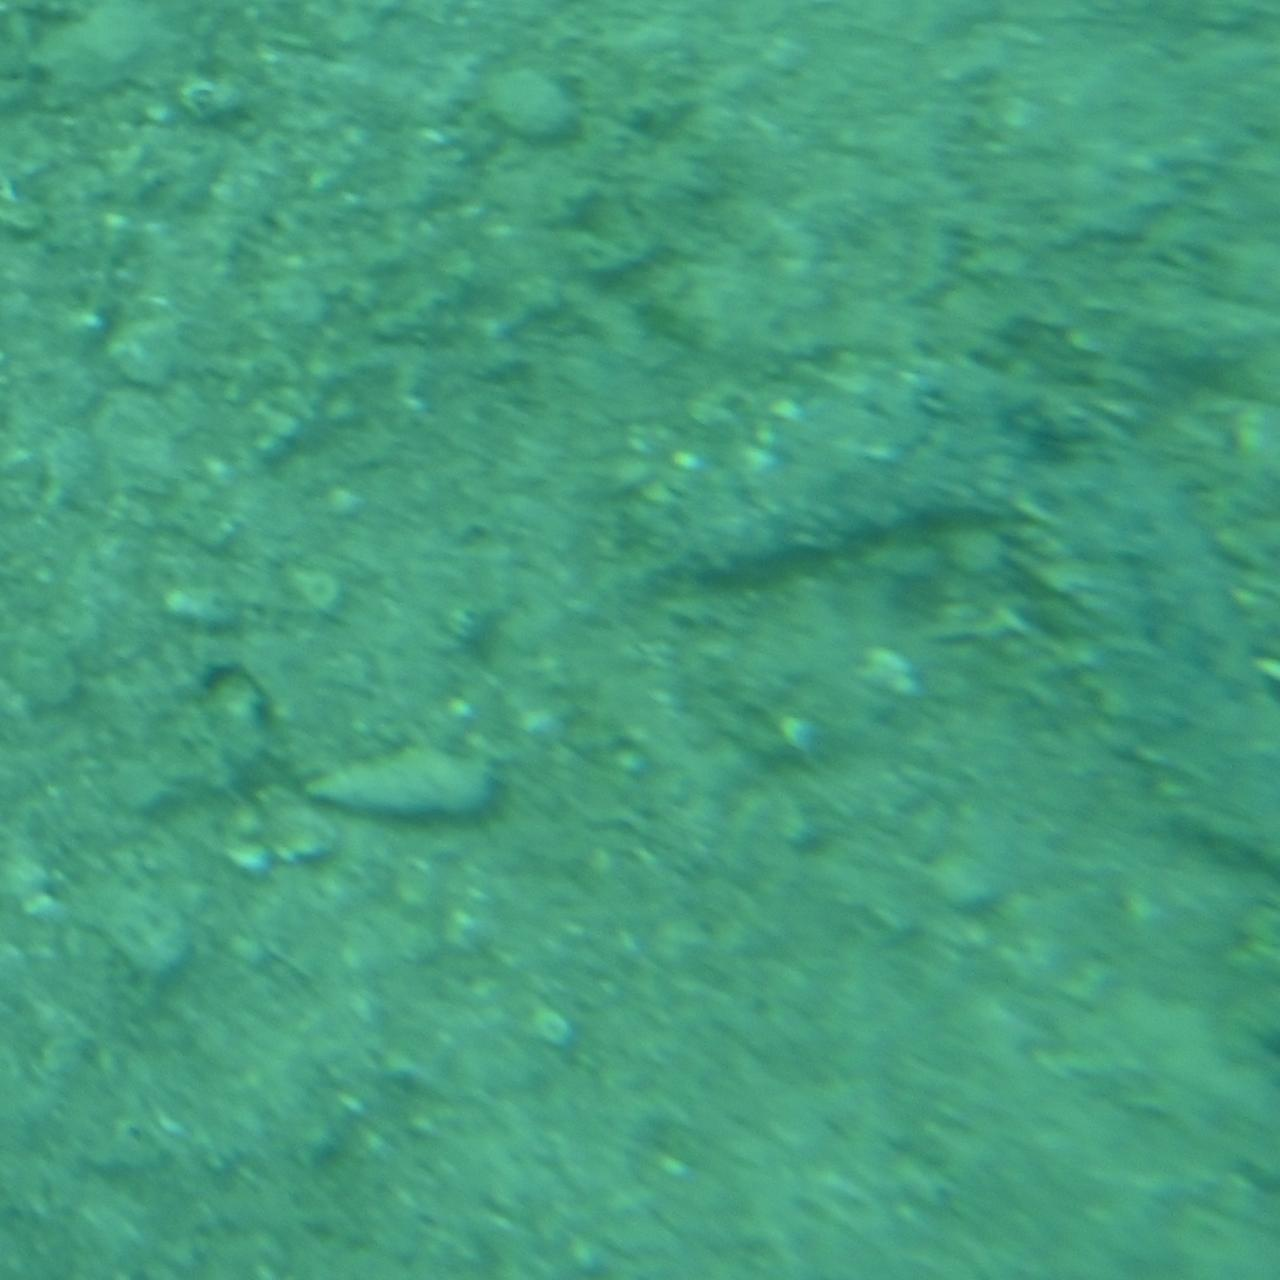Holothuria tubulosa: (656, 374, 1280, 906)
